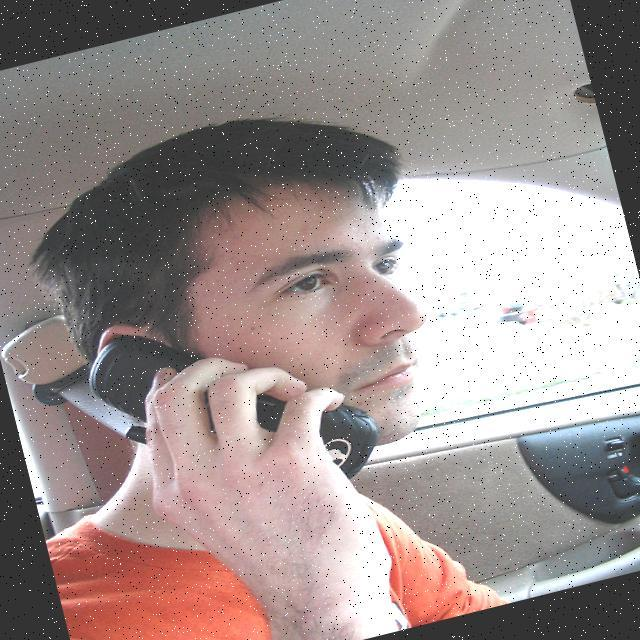fire_hydrant: (516, 300, 540, 328)
